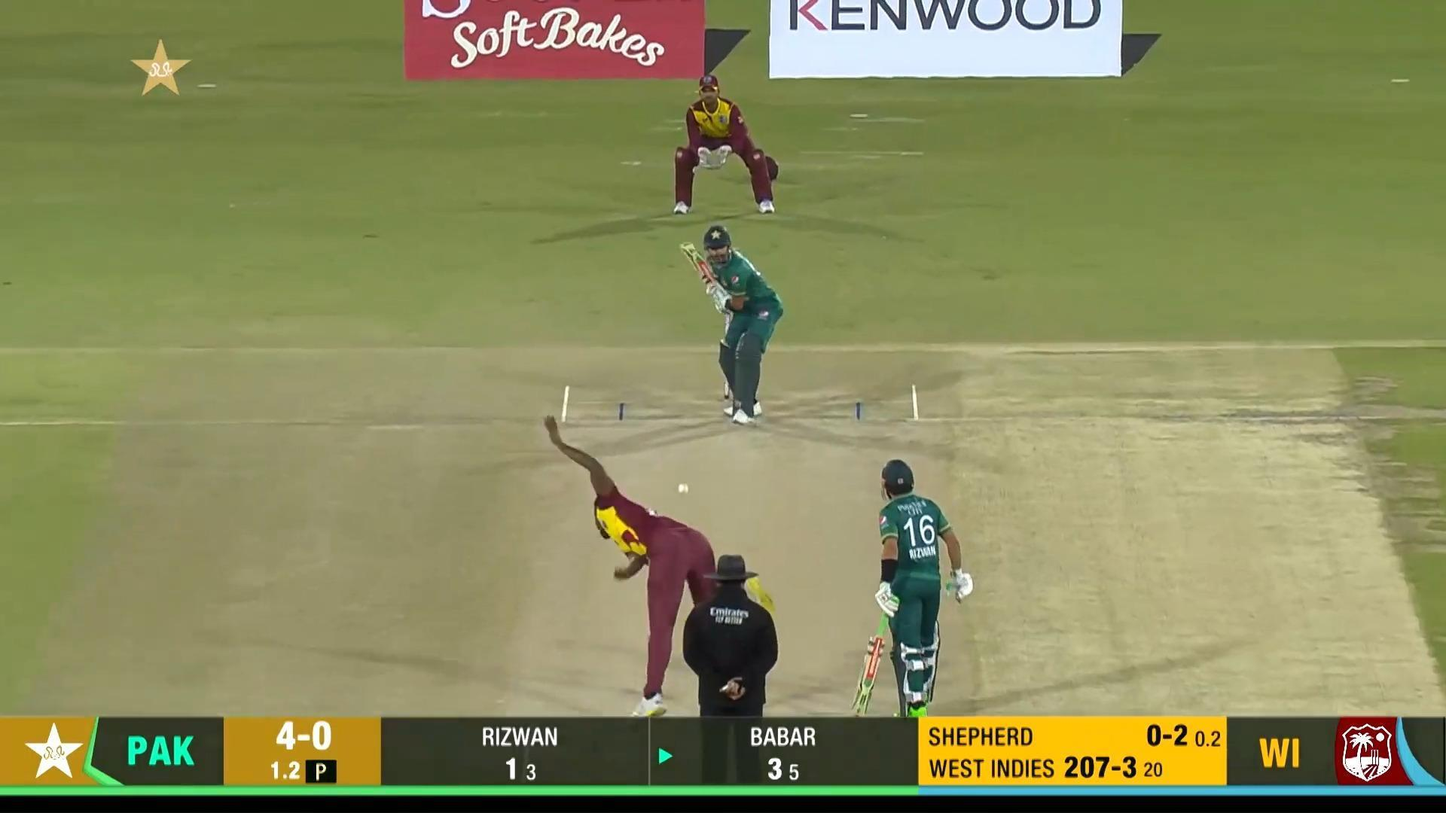BM 1: (679, 225, 784, 425)
BO: (543, 413, 717, 716)
